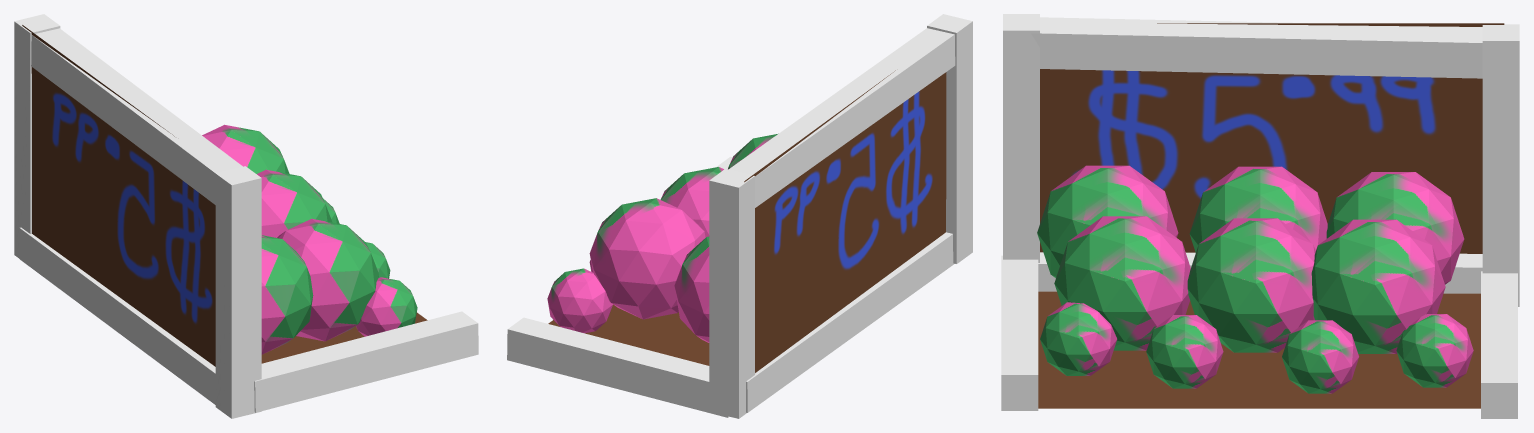
Rendered from ObjectsForStalls2_TJ.glb.
3 renders of one model, left to right at view 1: azimuth 30°, elevation 25°; view 2: azimuth 150°, elevation 25°; view 3: azimuth 270°, elevation 25°, orthographic. The views are drawn at different scales.
Parts seen in each view (by area): view 1: Plane.001, Cylinder, Cube.003, Cube.006, Cube, Cube.001, Cube.002, Plane; view 2: Plane.001, Cylinder, Cube.006, Cube.002, Cube.005, Cube.001, Cube.003, Plane; view 3: Cylinder, Plane.001, Cube.006, Plane, Cube.002, Cube.003, Cube, Cube.005, Cube.001.
Boxes of the visible parts, x1,y1,x2,y2 form: Plane.001: (22,25,215,366); Cylinder: (202,124,417,354); Cube.003: (215,166,261,418); Cube.006: (31,28,242,204); Cube: (254,311,478,412); Cube.001: (19,227,215,404); Cube.002: (14,14,60,258); Plane: (261,312,427,363); Plane.001: (744,70,946,372); Cylinder: (547,133,778,342); Cube.006: (728,28,955,207); Cube.002: (709,169,754,418); Cube.005: (507,317,729,417); Cube.001: (746,232,954,412); Cube.003: (927,14,972,263); Plane: (548,304,709,365); Cylinder: (1037,165,1473,393); Plane.001: (1040,23,1504,253); Cube.006: (1031,17,1482,78); Plane: (1038,291,1480,408); Cube.002: (1482,24,1519,306); Cube.003: (1003,14,1039,262); Cube: (1001,255,1038,410); Cube.005: (1481,271,1517,418); Cube.001: (1038,252,1482,293).
Bounding box in the file's own units: 2.21 × 2.06 × 3.53.
5 materials, 3 textured.
